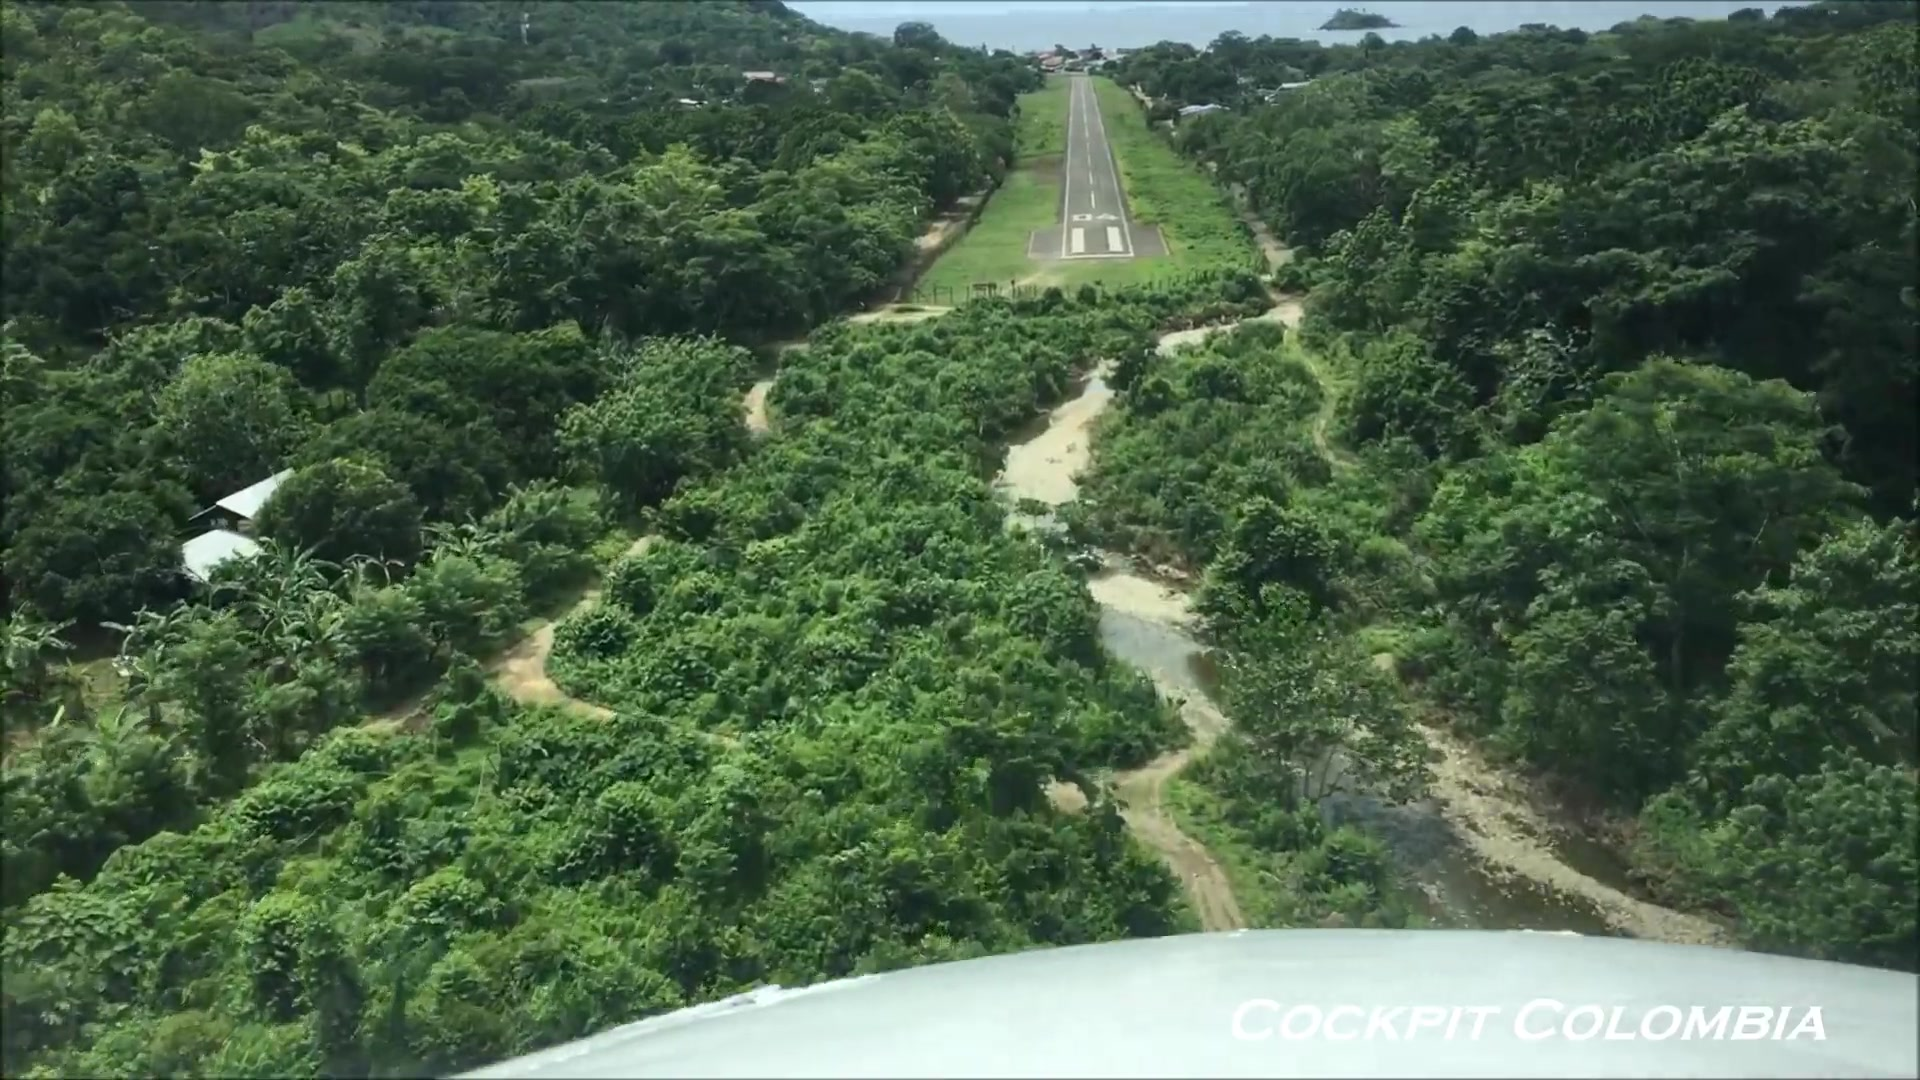entrance: (1071, 227, 1124, 253)
runway: (1058, 70, 1135, 262)
